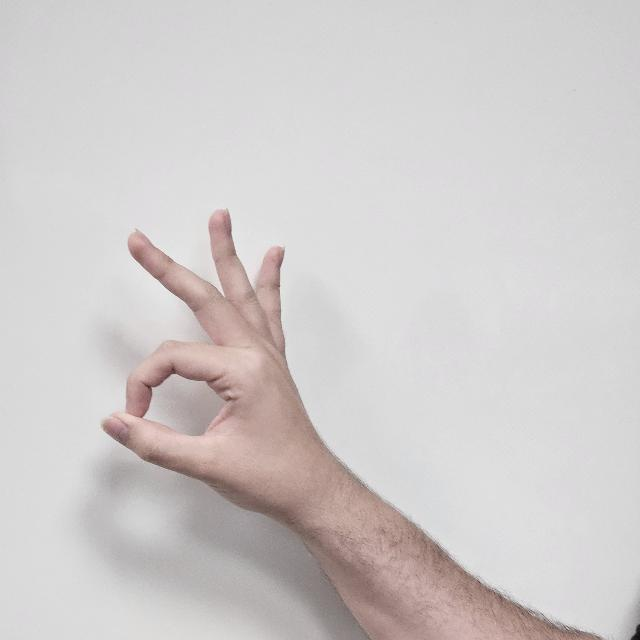Bolinha: (91, 201, 356, 544)
